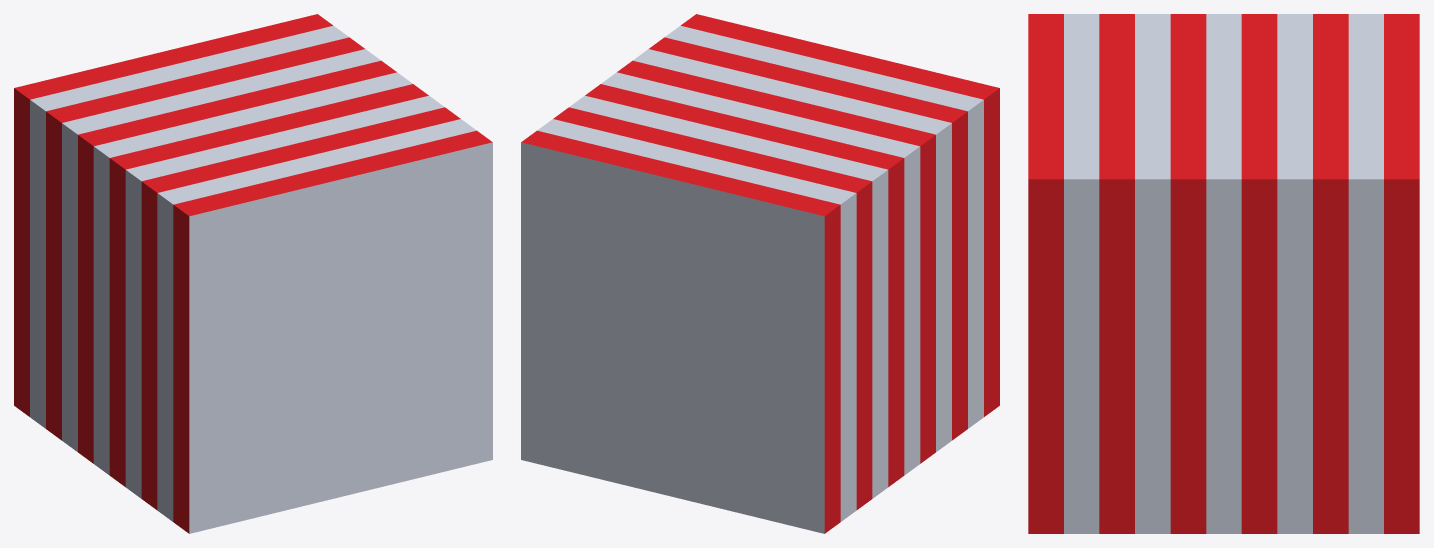
The model's file is AeroplanePathbar.fbx.
3 renders of one model, left to right at view 1: azimuth 30°, elevation 25°; view 2: azimuth 150°, elevation 25°; view 3: azimuth 270°, elevation 25°, orthographic. The views are drawn at different scales.
Visible parts, largest first — view 1: Cube; view 2: Cube; view 3: Cube.
Boxes of the visible parts, x1=… form: Cube: x1=14, y1=14, x2=492, y2=533; Cube: x1=521, y1=14, x2=999, y2=533; Cube: x1=1028, y1=14, x2=1419, y2=533.
Size of the model in its own units: 1 by 1 by 1.
